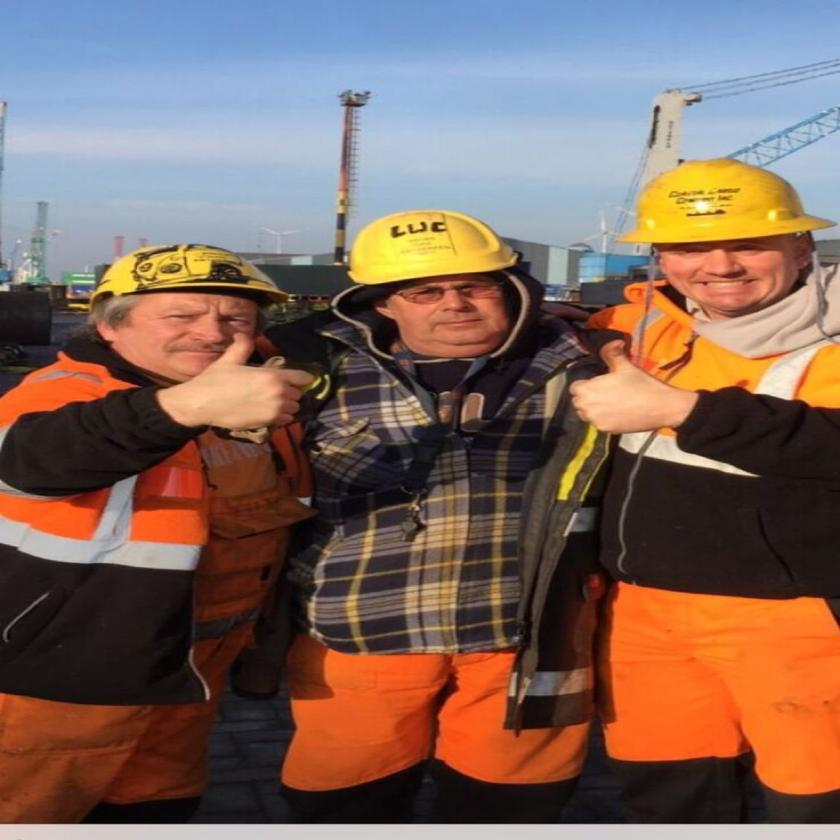Con_casco: (329, 204, 546, 376), (616, 153, 831, 324), (84, 238, 294, 398)
